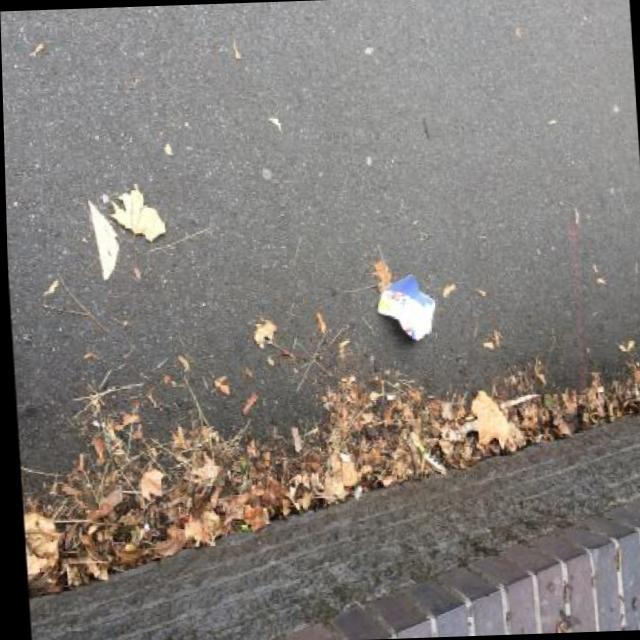paper: (373, 272, 436, 342)
